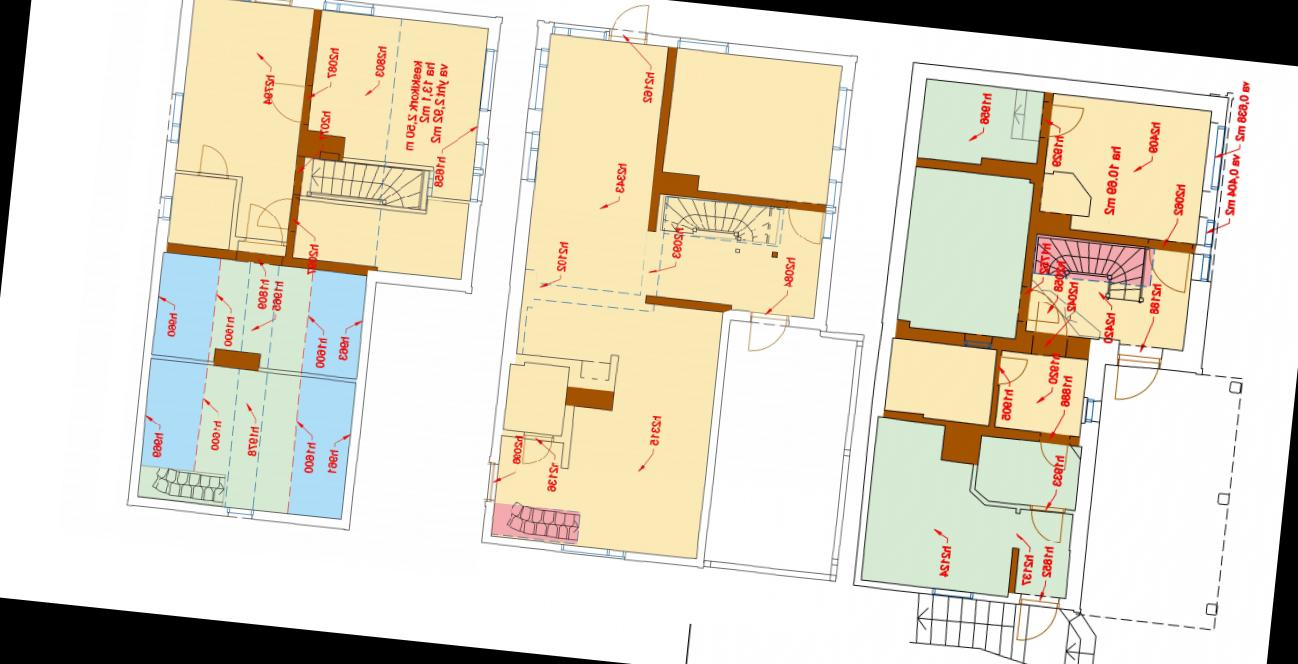door: (1110, 341, 1167, 408), (1138, 238, 1195, 297), (1010, 588, 1064, 648), (742, 310, 797, 362), (780, 201, 830, 252), (238, 199, 287, 250), (1020, 501, 1070, 549), (1040, 99, 1085, 145), (252, 191, 298, 234), (192, 142, 238, 184), (611, 0, 650, 49), (516, 430, 558, 473), (1032, 432, 1070, 474), (990, 353, 1032, 389)
window: (1198, 118, 1232, 196), (552, 540, 632, 568), (829, 84, 856, 156), (515, 128, 546, 187), (466, 140, 492, 210), (548, 16, 612, 44), (818, 176, 844, 243), (162, 89, 190, 149), (477, 47, 501, 116), (672, 36, 734, 60), (317, 0, 378, 22), (1192, 208, 1222, 252), (480, 456, 503, 509), (221, 502, 258, 527), (1187, 252, 1214, 286), (1078, 396, 1106, 428), (153, 192, 174, 226), (529, 43, 553, 72), (193, 0, 255, 7)
